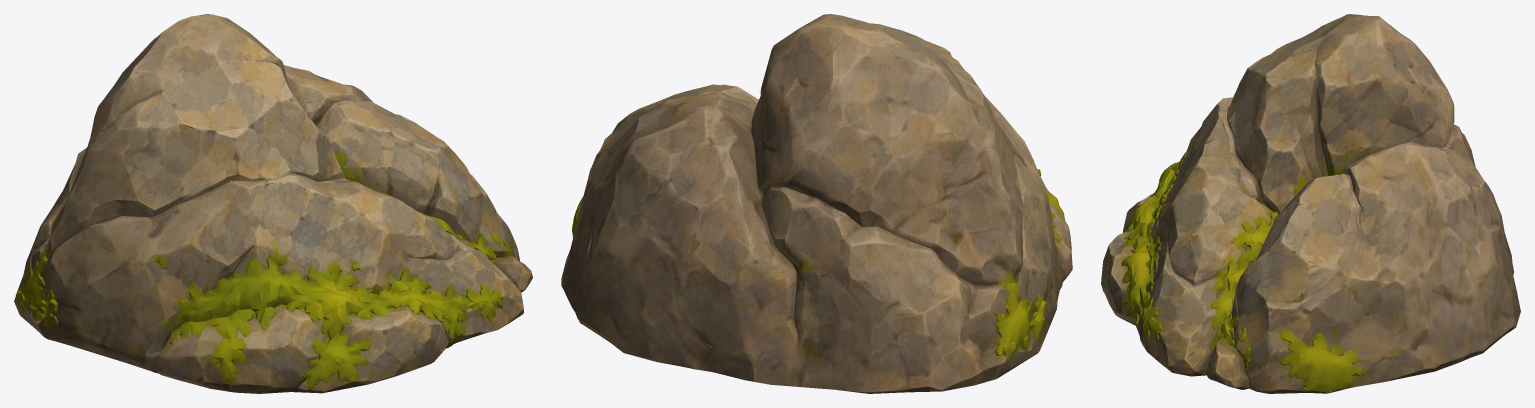
The model's file is mossy-stone-cluster.glb.
3 renders of one model, left to right at view 1: azimuth 30°, elevation 25°; view 2: azimuth 150°, elevation 25°; view 3: azimuth 270°, elevation 25°, orthographic. The views are drawn at different scales.
Parts seen in each view (by area): view 1: output_unwrapped; view 2: output_unwrapped; view 3: output_unwrapped.
Part boxes in pixels (x1,y1,x2,y2): output_unwrapped: [14, 14, 532, 393]; output_unwrapped: [561, 14, 1072, 393]; output_unwrapped: [1101, 14, 1520, 393].
Bounding box in the file's own units: 1.35 × 0.8 × 1.21.
1 material, 1 textured.
